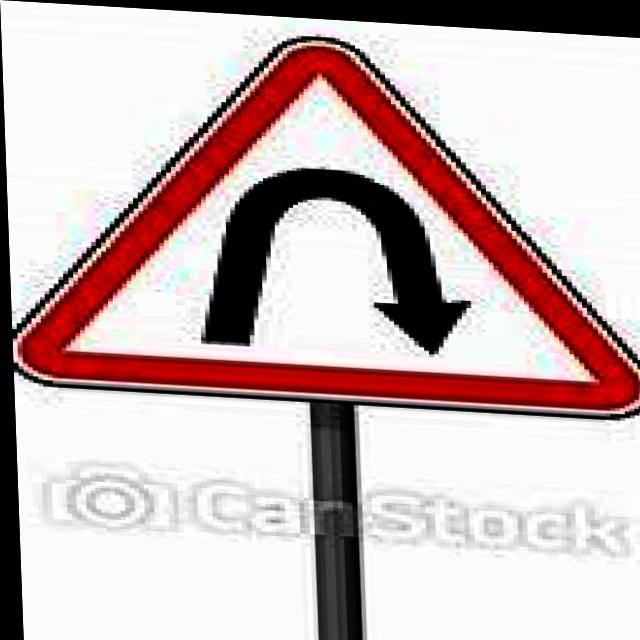RIGHT_HAIR_PIN_BEND: (0, 12, 640, 415)
